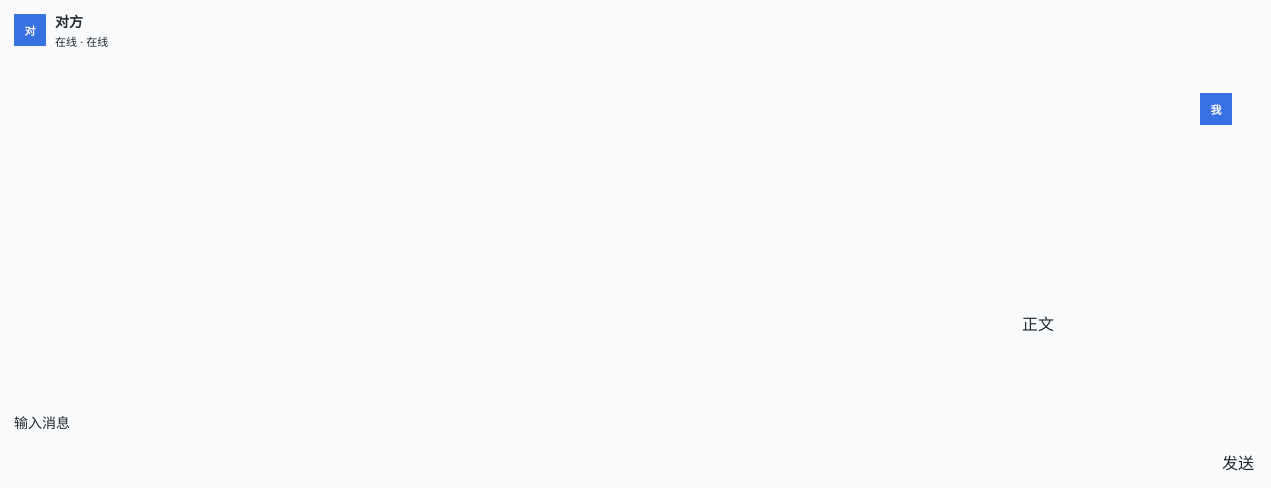
chat image and message interactions › offers recall only for an accepted own message and dismisses menus on conversation changes
Right-click the text "正文" at (1038, 323), box [1022, 311, 1054, 335]
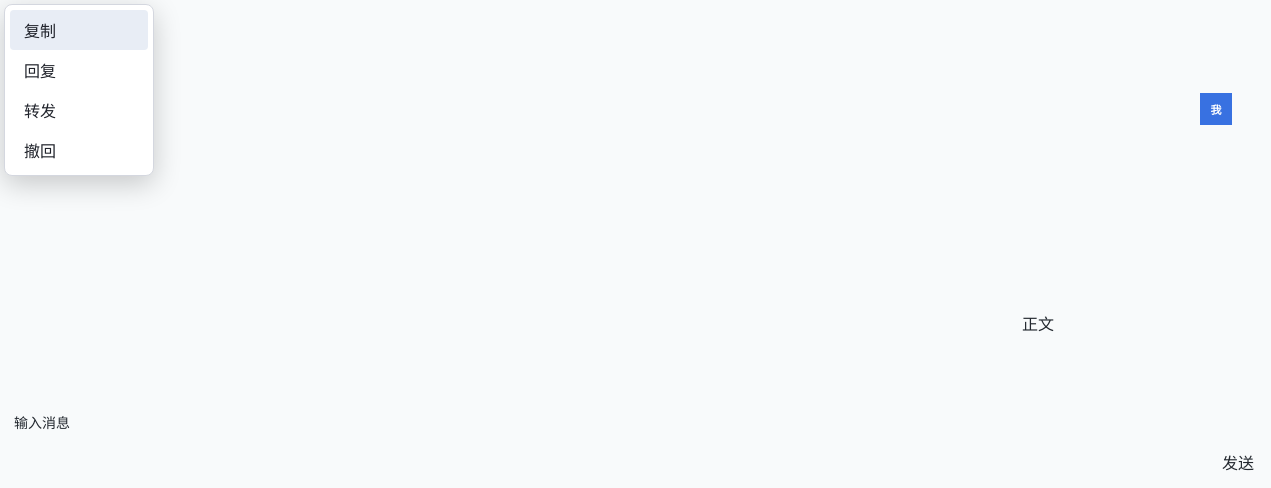
Now the menu item "撤回" is shown, box [10, 130, 148, 170]
